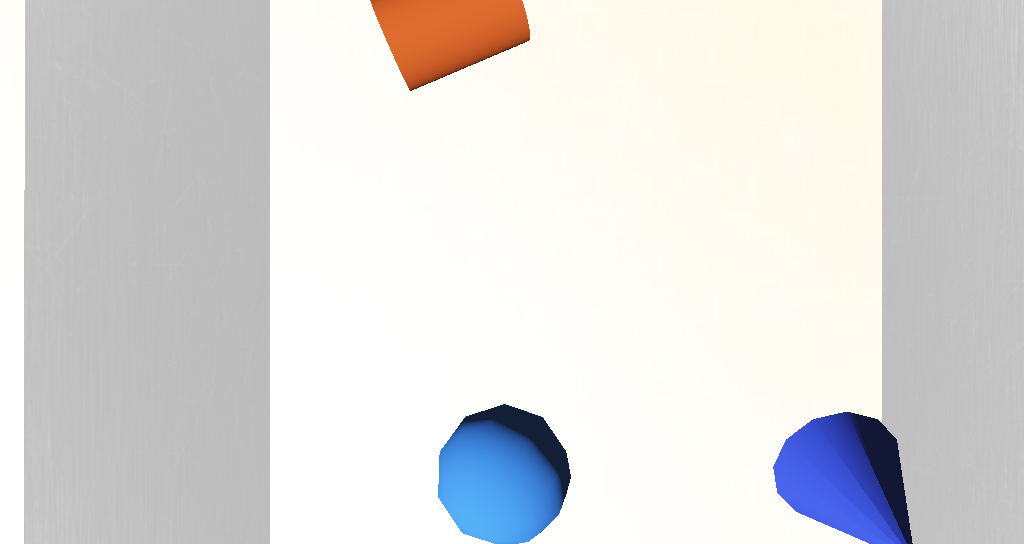cone: (404, 160, 485, 212)
cylinder: (600, 317, 680, 379)
sphere: (441, 310, 502, 358)
